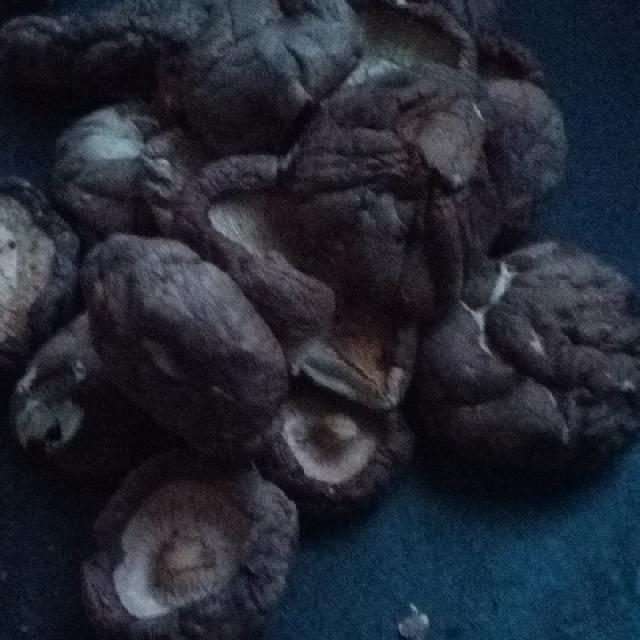Lentinus edodes: (427, 240, 640, 498), (83, 233, 286, 441), (85, 453, 302, 640), (267, 389, 412, 508)
